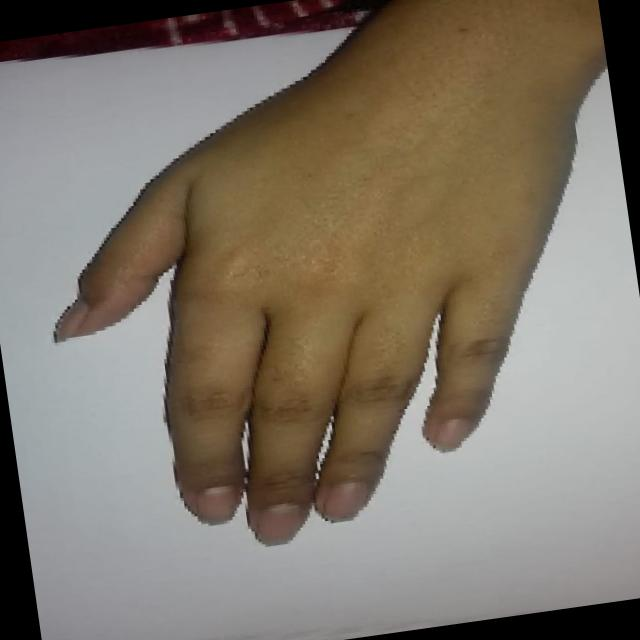Nail: (258, 504, 302, 545), (196, 485, 239, 524), (54, 297, 89, 342), (329, 481, 369, 520), (436, 418, 473, 452)
